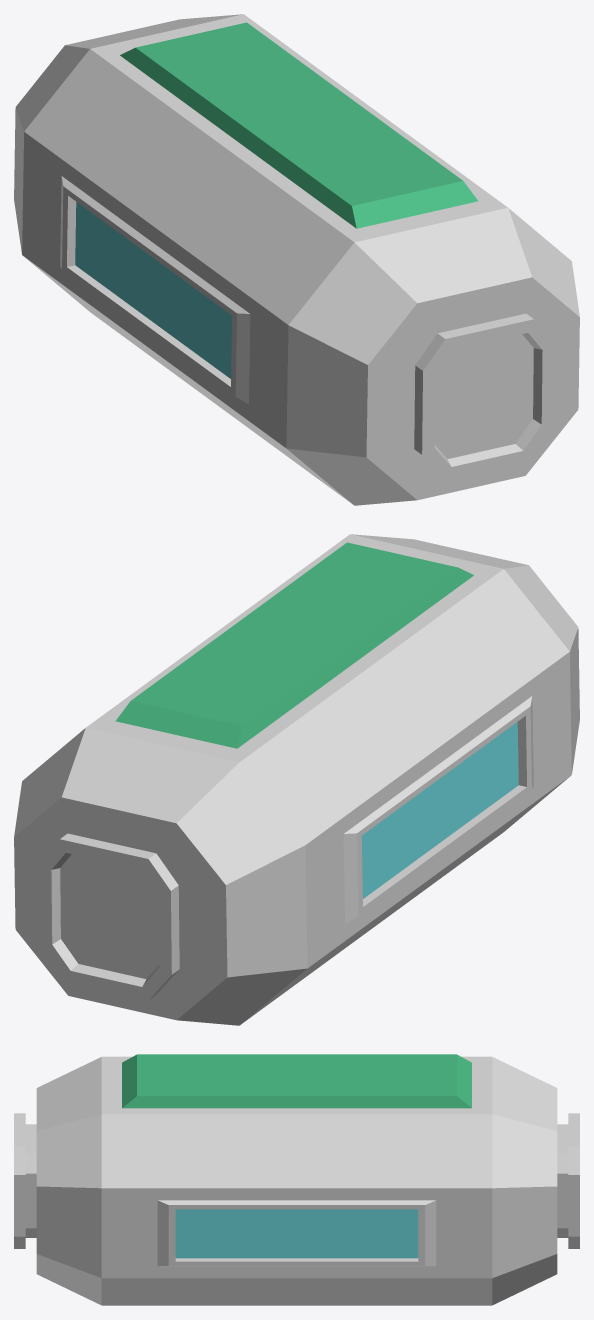
Rendered from Tonel1.fbx.
The picture shows the model from 3 angles, top to bottom: view 1: azimuth 30°, elevation 25°; view 2: azimuth 150°, elevation 25°; view 3: azimuth 270°, elevation 25°; orthographic projection. The views are drawn at different scales.
Parts seen in each view (by area): view 1: Tonel1; view 2: Tonel1; view 3: Tonel1.
Part boxes in pixels (x1,y1,x2,y2): Tonel1: (14, 14, 579, 505); Tonel1: (14, 534, 579, 1025); Tonel1: (14, 1054, 579, 1305).
Size of the model in its own units: 78.29 by 70.61 by 175.
